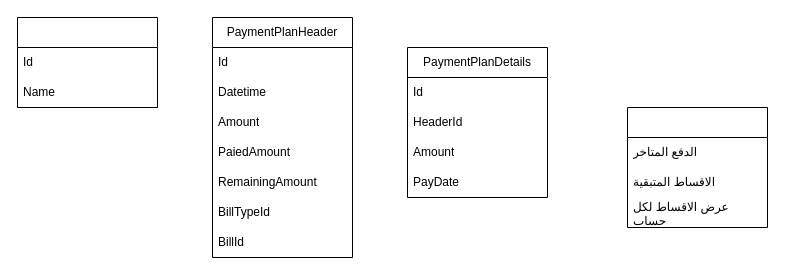
The diagram is 785 pixels wide and 275 high, and some of its shapes have lost their labels. Each missing label, with the box of its shape:
Accounts: (16, 16, 158, 108)
Reports: (626, 106, 768, 228)
